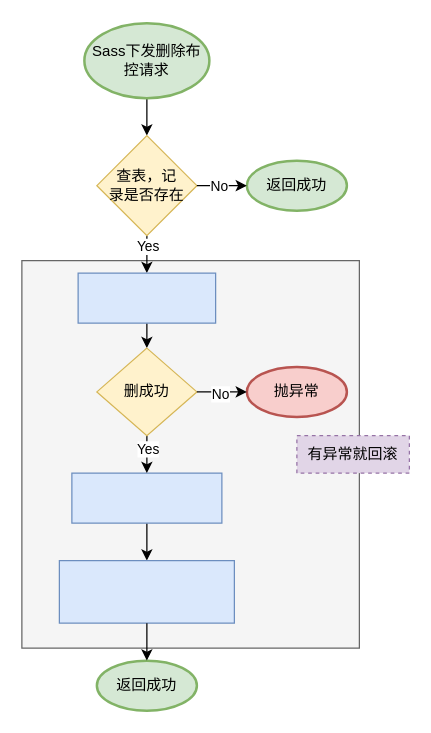
Image size: 431x733. Some labels were removed from this diagram. Here are the shapes that lost their labels. From the top down, the centre of each, then its label:
At pixel 146 297: "删MySQL，delete".
At pixel 146 497: "删缓存KeyNode".
At pixel 146 591: "组装Request参数，RPC下发删除布控信息到EX".
